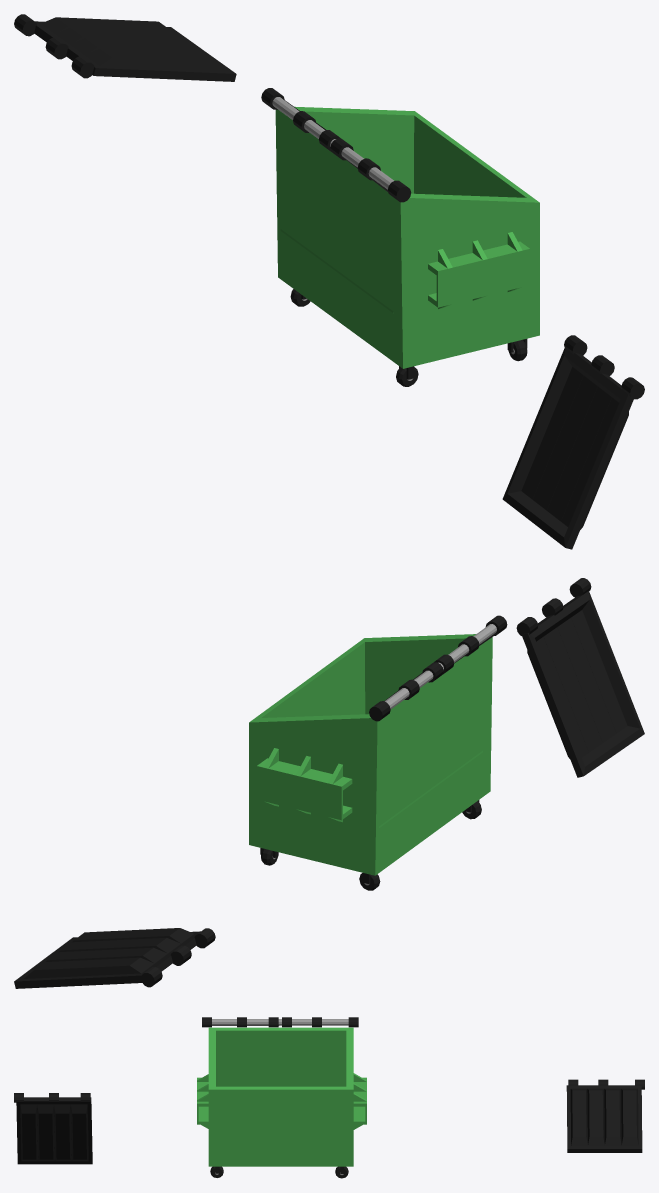
Rendered from cop _kovası.fbx.
3 views of the same model, one above another, from view 1: azimuth 30°, elevation 25°; view 2: azimuth 150°, elevation 25°; view 3: azimuth 270°, elevation 25° (orthographic). The views are drawn at different scales.
Parts seen in each view (by area): view 1: model.002, model, model.001; view 2: model.002, model, model.001; view 3: model.002, model.001, model.
Part boxes in pixels (x1=…): model.002: x1=261, y1=88, x2=539, y2=386; model: x1=502, y1=335, x2=644, y2=549; model.001: x1=14, y1=14, x2=236, y2=81; model.002: x1=249, y1=615, x2=507, y2=890; model: x1=516, y1=578, x2=644, y2=777; model.001: x1=14, y1=928, x2=215, y2=988; model.002: x1=197, y1=1017, x2=366, y2=1178; model.001: x1=566, y1=1079, x2=644, y2=1152; model: x1=14, y1=1093, x2=92, y2=1164.
Bounding box in the file's own units: 62.55 × 95.43 × 379.
